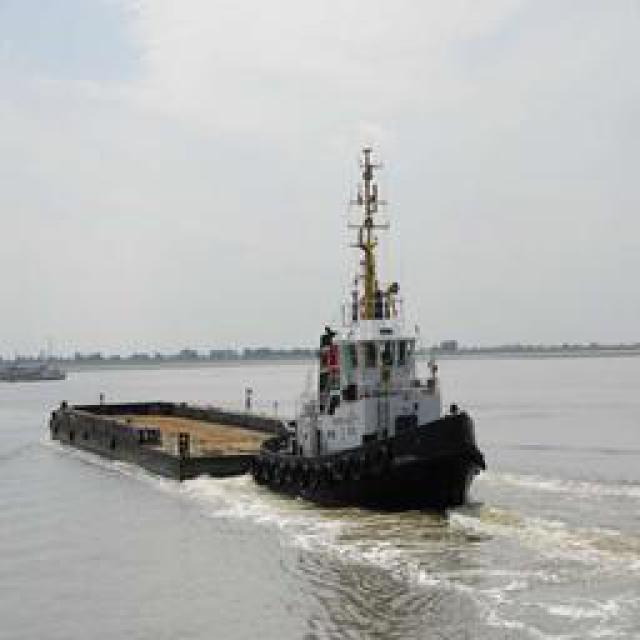Ship: (251, 132, 483, 511)
